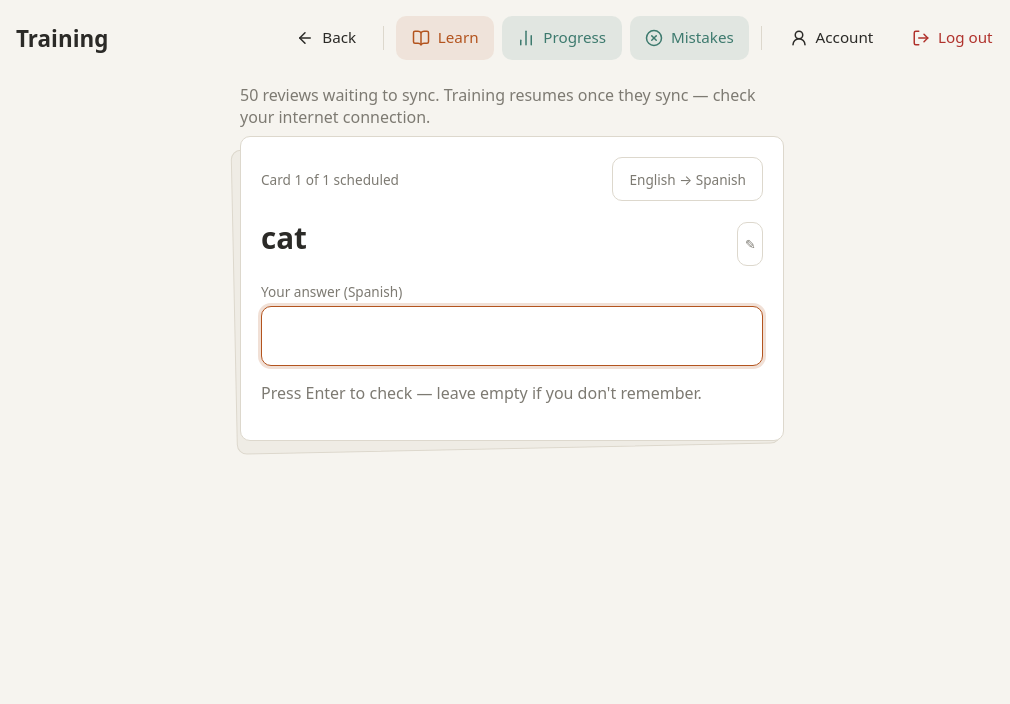
Scenario: TrainPage with a full outbox › disables rating and explains why
The image size is (1010, 704).
Type "perro" into the text box labelled "Your answer (Spanish)".
click(512, 336); type("perro")  # box [261,306,763,366]
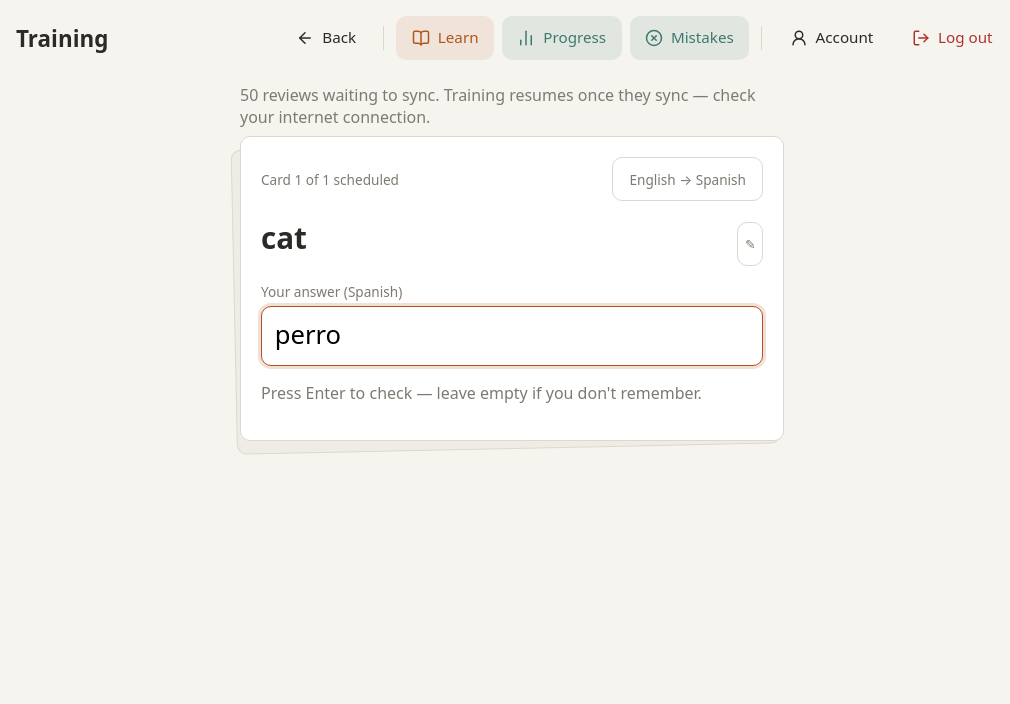
Submit the form labelled "Your answer", box [261,282,763,420]
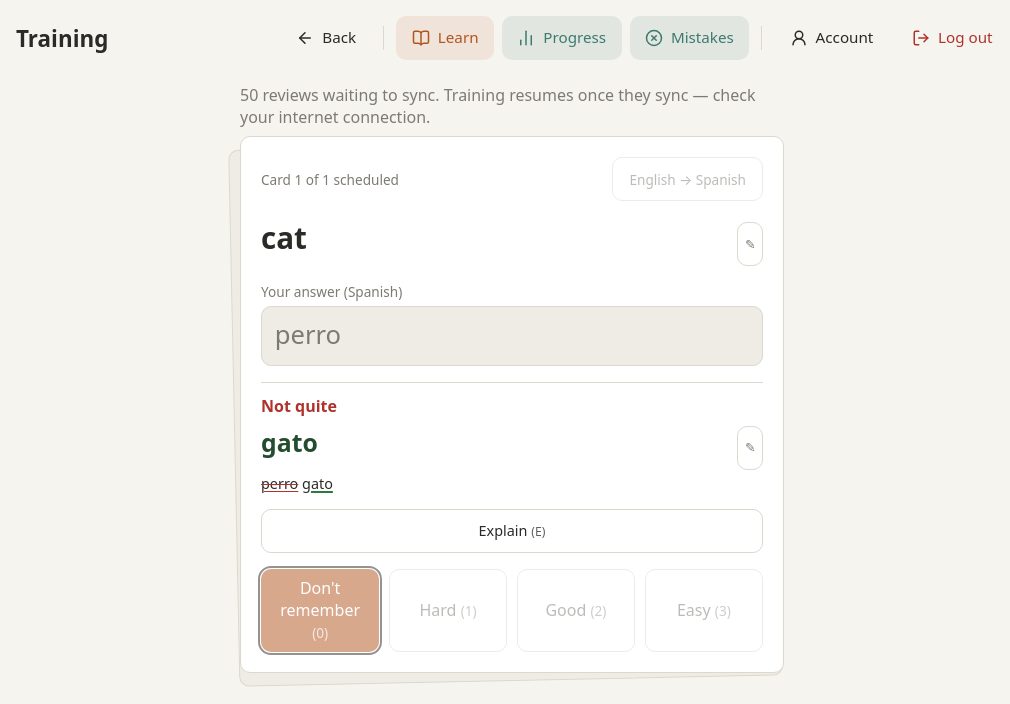
Expected: the button "Don't remember (0)" is disabled, [261,569,379,652]
Expected: the button "Hard (1)" is disabled, [389,569,507,652]
Expected: the button "Good (2)" is disabled, [517,569,635,652]
